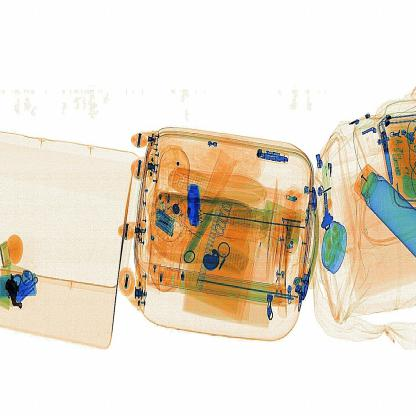scissors: (178, 172, 202, 224)
